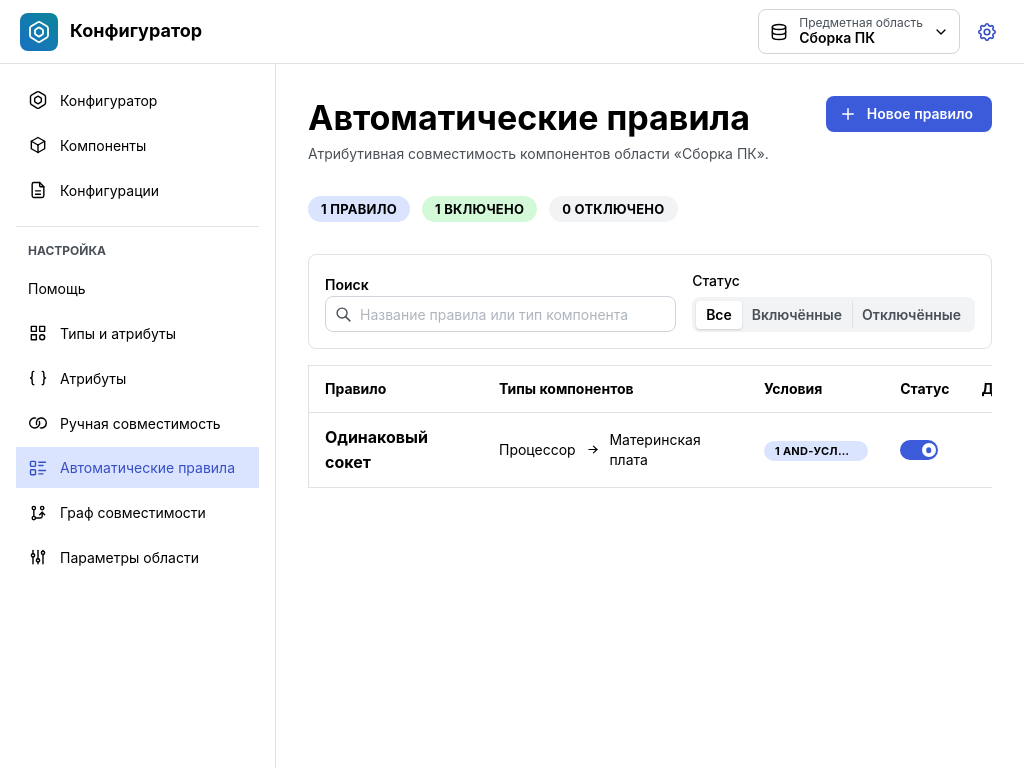
Test: automatic compatibility rule management › toggles through a full authoritative PUT without changing the rule shape
Click the switch named "Отключить правило Одинаковый сокет" at (919, 450), box [900,440,938,460]
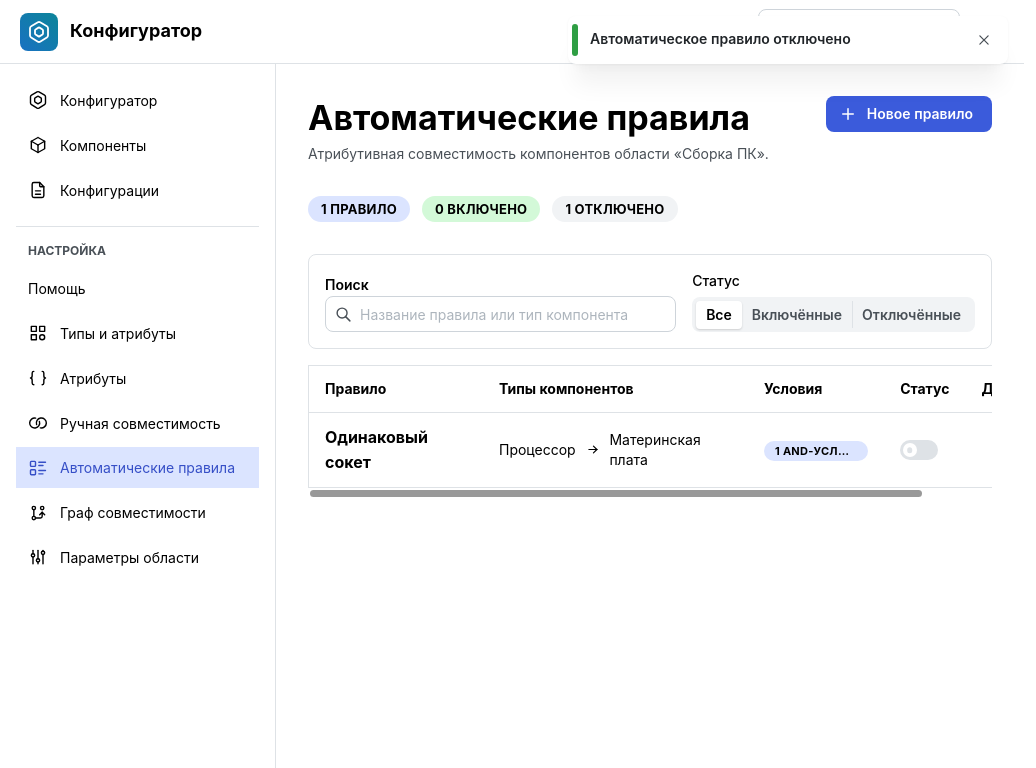
Check: the switch named "Включить правило Одинаковый сокет" is not checked, box [900,440,938,460]
Check: the text "Автоматическое правило отключено" is shown, box [590,30,851,47]
